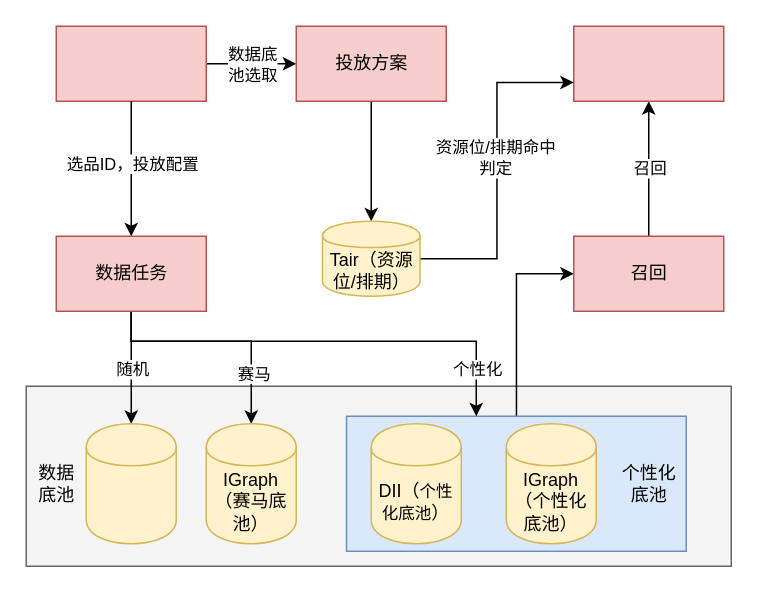
Image size: 758x593. Some labels were removed from this diagram. The shapes that lost their labels are listed below. From the top down, each one's box as (x1, y1, x2, y2) in pixels, then its label:
(55, 25, 206, 101): 选投
(572, 25, 724, 101): 投放解决方案
(85, 422, 176, 544): Tair（随机底池）
